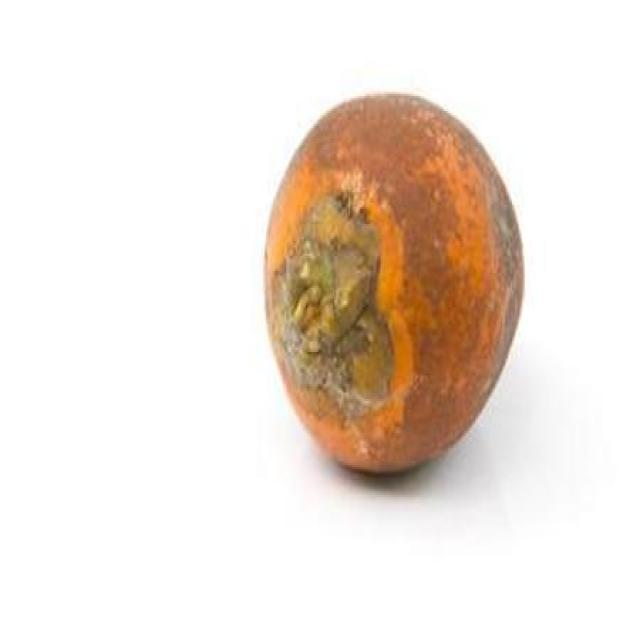good: (263, 94, 525, 476)
